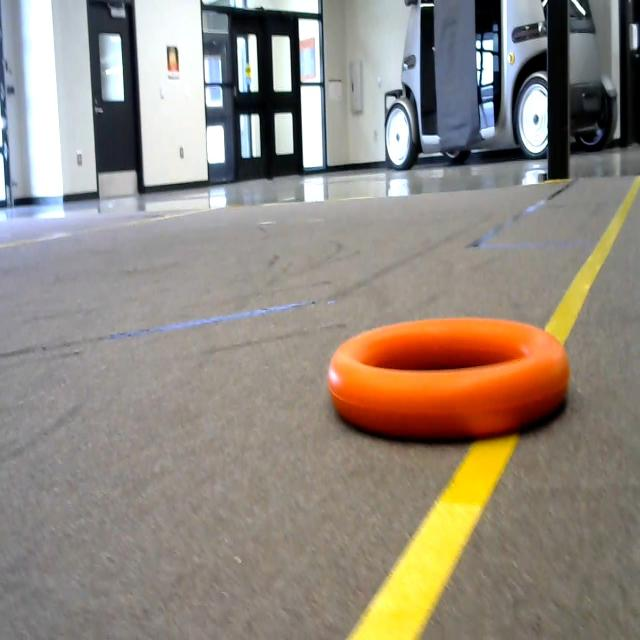note: (306, 303, 583, 444)
